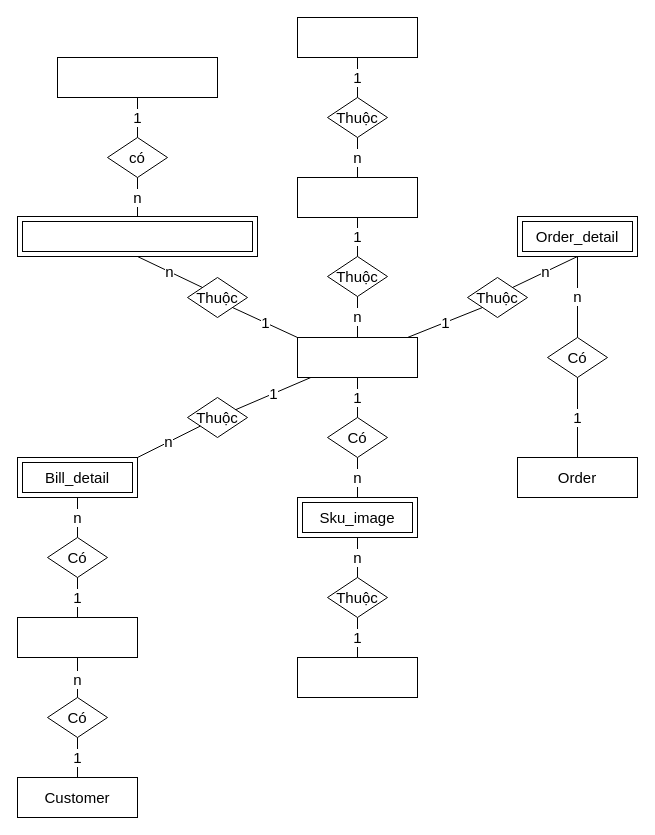
Image size: 655x835. Some labels were removed from this diagram. Each missing label, with the box of its shape:
Bill: (16, 616, 138, 658)
Category: (296, 16, 418, 58)
Good_received_note_detail: (16, 216, 258, 256)
Goods_received_note: (56, 56, 218, 98)
Image: (296, 656, 418, 698)
Shoes: (296, 176, 418, 218)
Sku: (296, 336, 418, 378)
